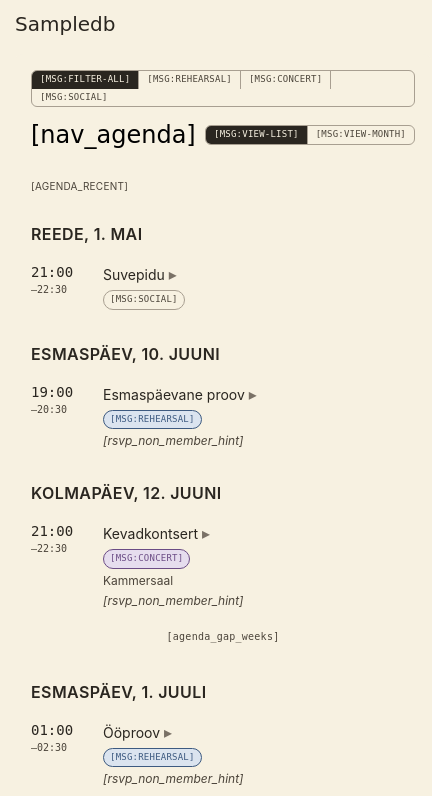
#247 — the Detailne|Kompaktne toggle (ruled: segmented control, WITH the chips, day list default) › tap Kompaktne → month overview replaces the day list; tap Detailne → the day list (Recent included) is back
Click the button "[msg:view-month]": (361, 135) [308,126,414,144]
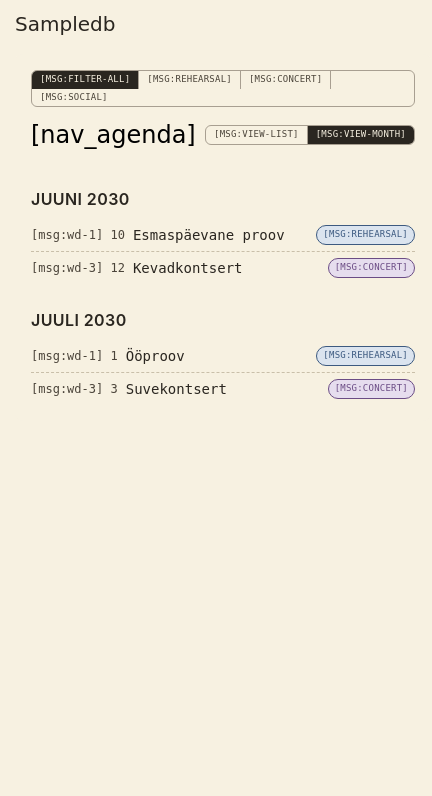
Now the element with test id "agenda-day-group" is gone
Now the element with test id "agenda-date-header" is gone
Click the button "[msg:view-list]": (257, 135) [206,126,308,144]
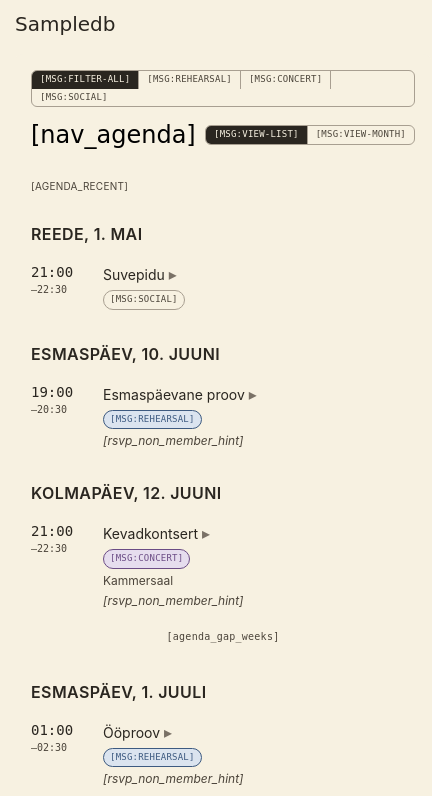
Now the element with test id "agenda-day-group" that starts with "esmaspäev, 10. juuni" is shown, box [31,344,257,448]
Now the element with test id "agenda-recent" is shown, box [31,180,185,310]
Now the element with test id "agenda-recent-row-rec-soc" is shown, box [31,264,185,310]
